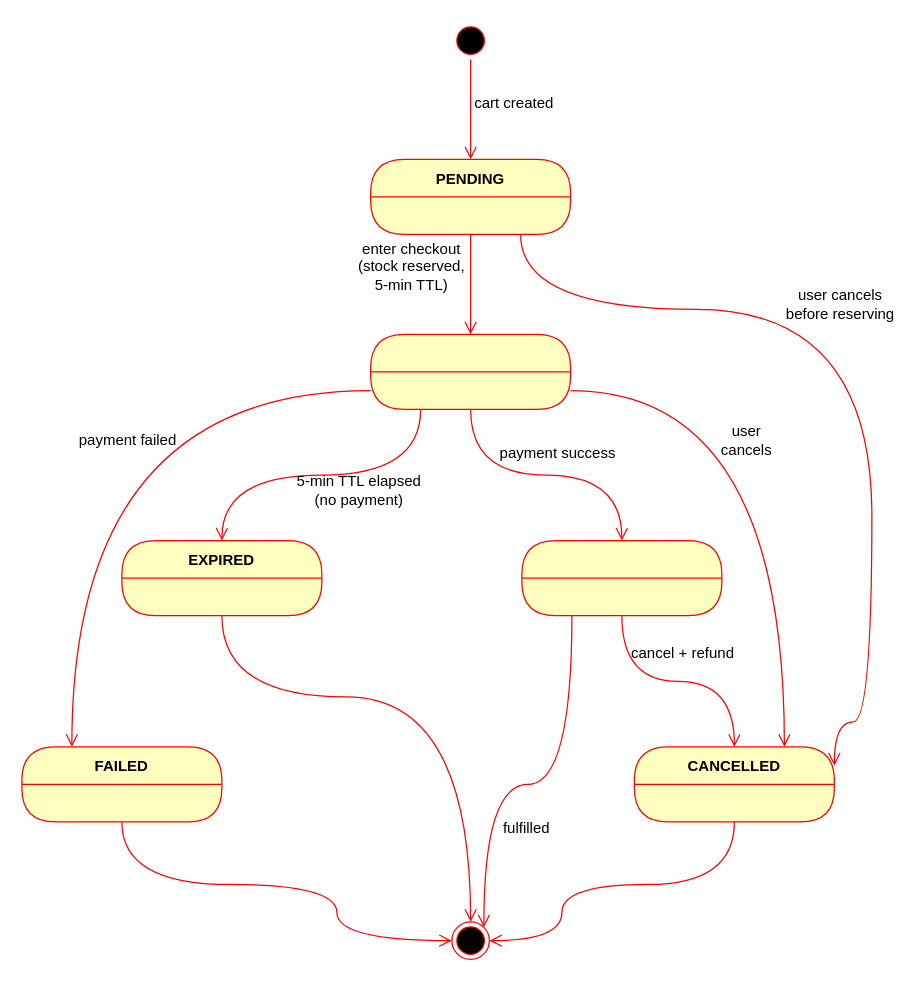
Image size: 919x981. Some labels were removed from this diagram. The shapes that lost their labels are listed below. From the top down, each one's centre as x and y in pixels, then its label:
At point (470, 371): "RESERVED".
At point (621, 577): "PAID".
